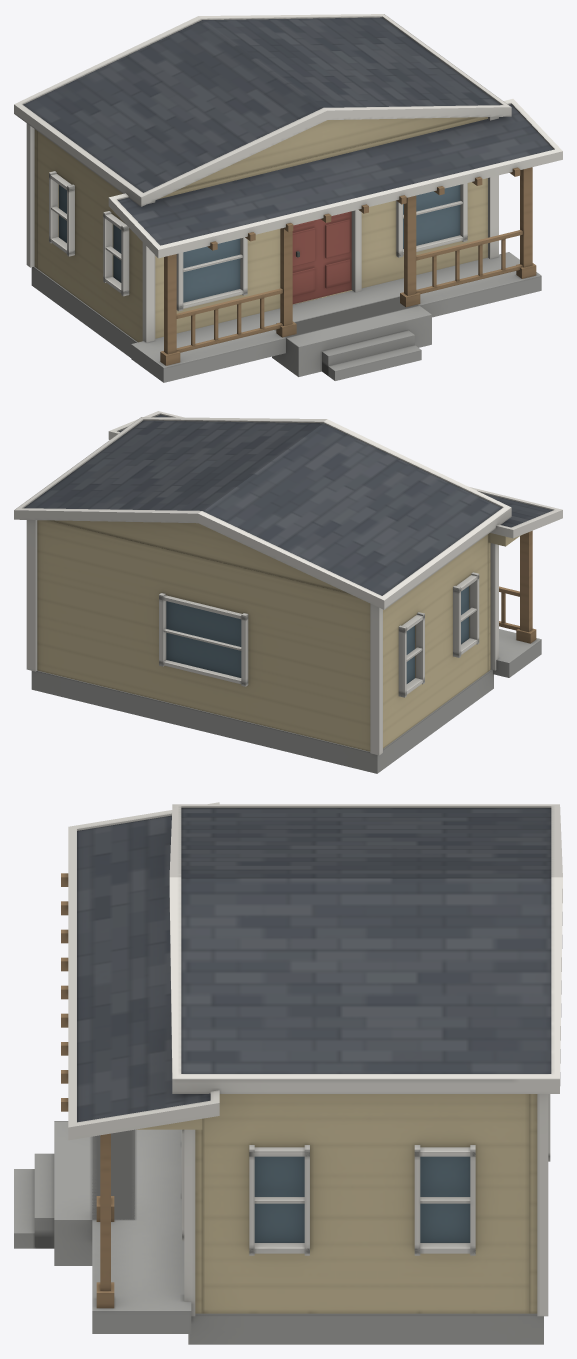
File: House_09_Long_Farmhouse.fbx
The picture shows the model from 3 angles, top to bottom: view 1: azimuth 30°, elevation 25°; view 2: azimuth 150°, elevation 25°; view 3: azimuth 270°, elevation 25°; orthographic projection. The views are drawn at different scales.
Parts seen in each view (by area): view 1: House_09_Long_Farmhouse; view 2: House_09_Long_Farmhouse; view 3: House_09_Long_Farmhouse.
Part boxes in pixels (x1=…): House_09_Long_Farmhouse: x1=14, y1=14, x2=562, y2=382; House_09_Long_Farmhouse: x1=14, y1=411, x2=562, y2=773; House_09_Long_Farmhouse: x1=14, y1=802, x2=562, y2=1344.
Bounding box in the file's own units: 8.47 × 4.45 × 6.53.
Materials: 1 (1 with a texture image).
